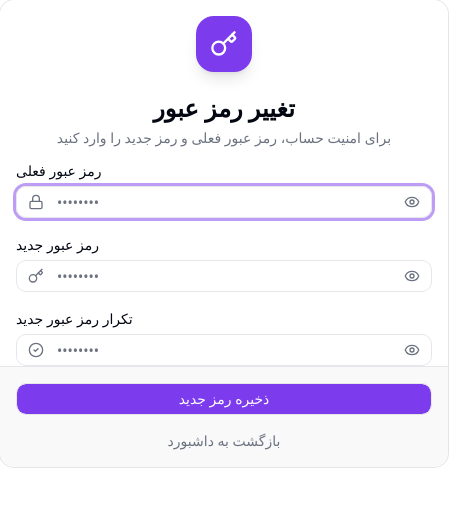
Scenario: SettingsPasswordForm › shows error when passwords do not match
This screenshot has width=466, height=509.
Type "OldPass123!" into the password field labelled "رمز عبور فعلی" at (224, 202), box x1=16 y1=186 x2=432 y2=218
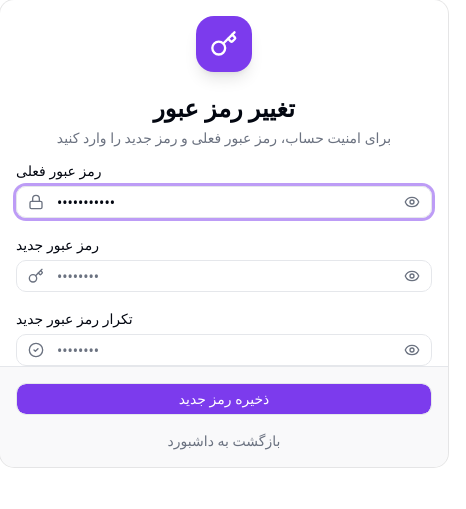
Type "NewPass123!" into the password field labelled "رمز عبور جدید" at (224, 276), box x1=16 y1=260 x2=432 y2=292
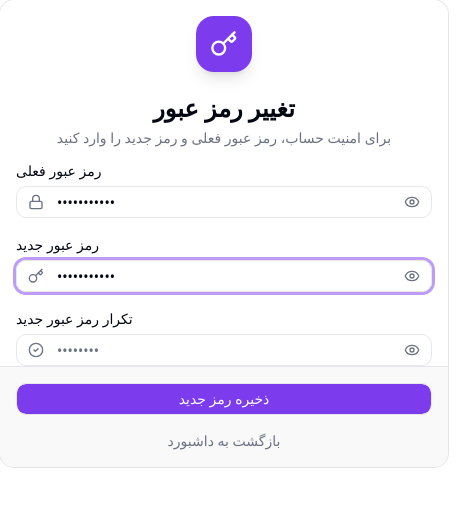
Type "DifferentPass123!" into the password field labelled "تکرار رمز عبور جدید" at (224, 350), box x1=16 y1=334 x2=432 y2=366
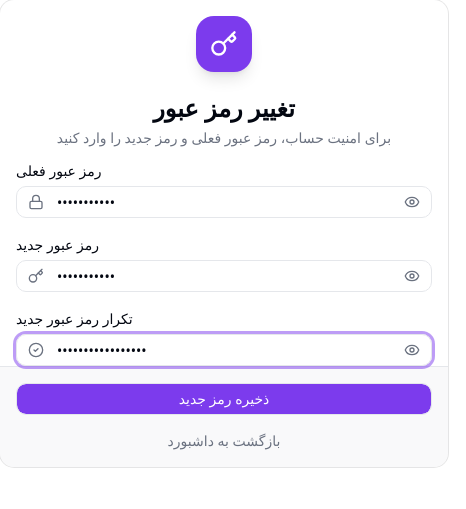
Click the button "ذخیره رمز جدید" at (224, 399), box x1=16 y1=383 x2=432 y2=415
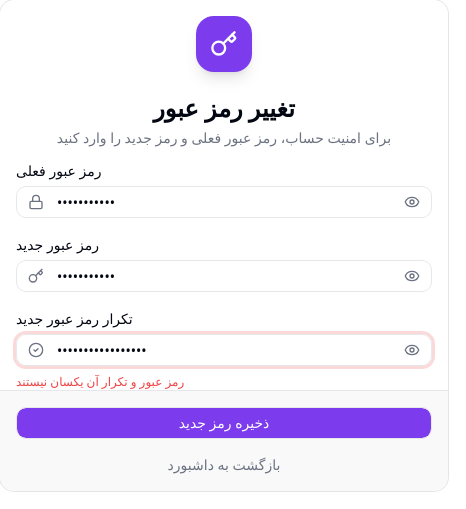
Now the text "رمز عبور و تکرار آن یکسان نیستند" is shown, box x1=16 y1=373 x2=184 y2=390
